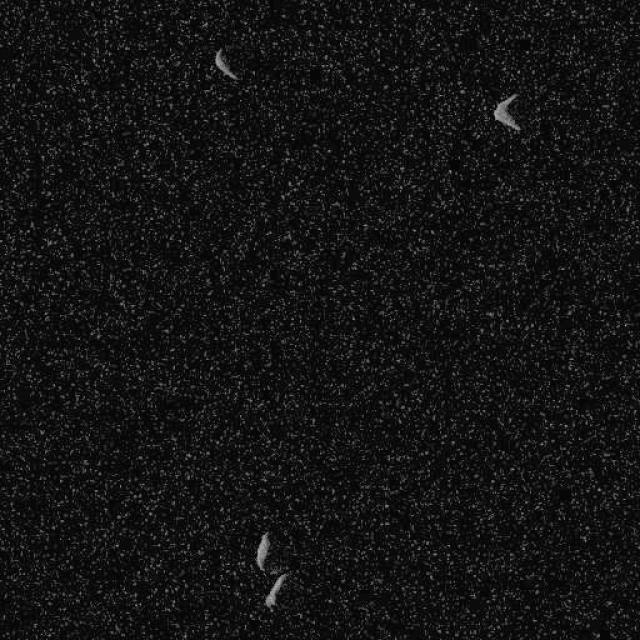D2: (491, 91, 521, 131), (262, 571, 288, 610), (212, 45, 240, 81), (255, 530, 271, 571)
